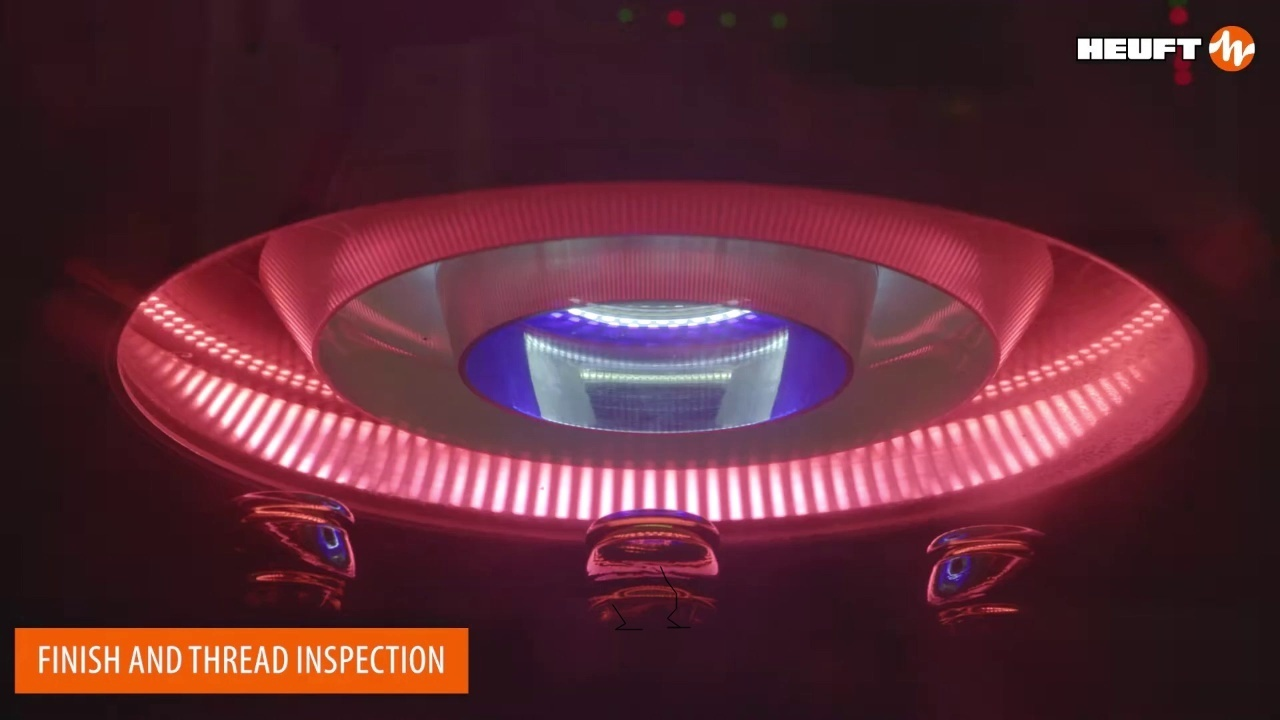bottle: (580, 509, 719, 628)
crack: (612, 604, 642, 629)
